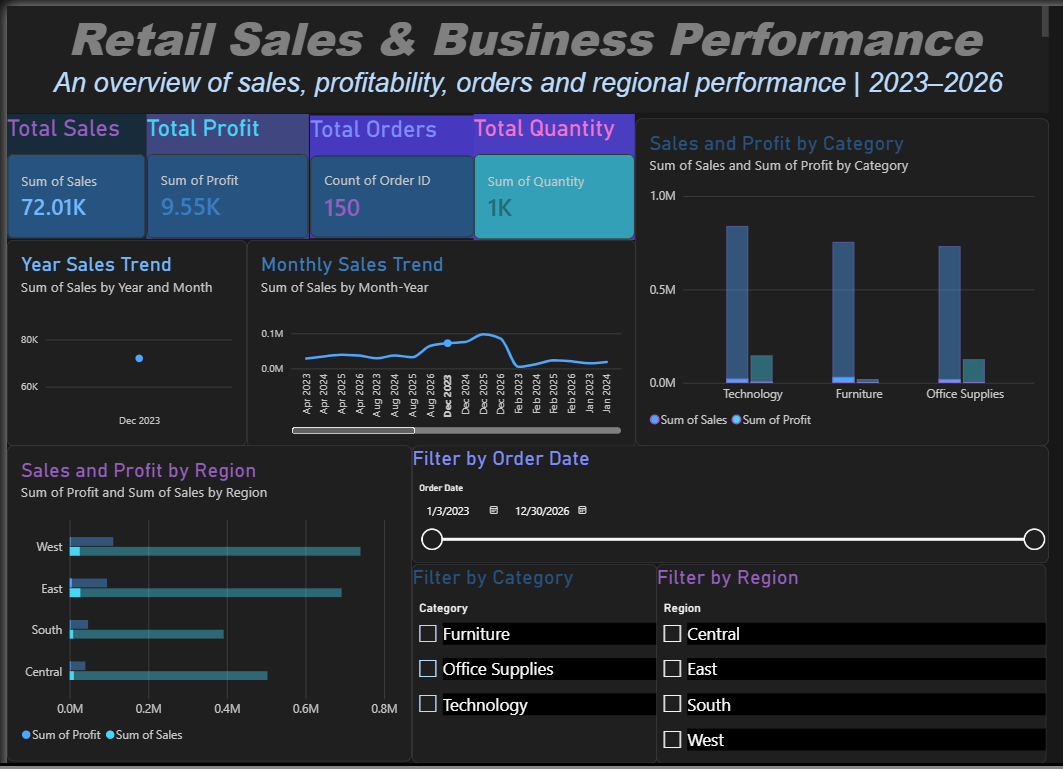

The dashboard page shown, as its layout file describes it:
{"tool":"powerbi","page":{"name":"Page 1","canvas":[1920,1080],"ordinal":0},"visuals":[{"type":"cardVisual","title":"Total Sales","fields":{"Data":["Sum(superstore_cleaned.Sales)"]},"box":[0,128,166,148.9],"z":0},{"type":"cardVisual","title":"Total Profit","fields":{"Data":["Sum(superstore_cleaned.Profit)"]},"box":[166,128,193.6,148.9],"z":1000},{"type":"cardVisual","title":"Total Orders","fields":{"Data":["Count(superstore_cleaned.Order ID)"]},"box":[360,130,196,146],"z":2000},{"type":"cardVisual","title":"Total Quantity","fields":{"Data":["Sum(superstore_cleaned.Quantity)"]},"box":[556,128,192,150],"z":3000},{"type":"lineChart","title":"Year Sales Trend","fields":{"Category":["superstore_cleaned.Order Date.Variation.Date Hierarchy.Year","superstore_cleaned.Order Date.Variation.Date Hierarchy.Month"],"Y":["Sum(superstore_cleaned.Sales)"]},"box":[0,278,285.5,245.2],"z":4000},{"type":"lineChart","title":"Monthly Sales Trend","fields":{"Category":["superstore_cleaned.Month-Year"],"Y":["Sum(superstore_cleaned.Sales)"]},"box":[286,276,462,248],"z":5000},{"type":"clusteredColumnChart","title":"Sales and Profit by Category","fields":{"Category":["superstore_cleaned.Category"],"Y":["Sum(superstore_cleaned.Sales)","Sum(superstore_cleaned.Profit)"]},"box":[748,134,492,390],"z":6000},{"type":"clusteredBarChart","title":"Sales and Profit by Region","fields":{"Category":["superstore_cleaned.Region"],"Y":["Sum(superstore_cleaned.Profit)","Sum(superstore_cleaned.Sales)"]},"box":[0,524,482.3,375.8],"z":7000},{"type":"slicer","title":"Filter by Order Date","fields":{"Values":["superstore_cleaned.Order Date"]},"box":[482,524,758,140],"z":8000},{"type":"slicer","title":"Filter by Category","fields":{"Values":["superstore_cleaned.Category"]},"box":[482,664,291.9,237.1],"z":9000},{"type":"slicer","title":"Filter by Region","fields":{"Values":["superstore_cleaned.Region"]},"box":[774,664,464,238],"z":10000},{"type":"textbox","box":[0,0,1240,74],"z":10001},{"type":"textbox","box":[0,74,1240,54],"z":10002}]}

Visuals, with their boxes on the page's 1920x1080 design canvas (x1, y1, x2, y2). These are canvas units, not pixel positions in the 1063x769 screenshot, which may show the page scaled, cropped or inside an application window:
"Total Sales" cardVisual: x1=0 y1=128 x2=166 y2=277
"Total Profit" cardVisual: x1=166 y1=128 x2=360 y2=277
"Total Orders" cardVisual: x1=360 y1=130 x2=556 y2=276
"Total Quantity" cardVisual: x1=556 y1=128 x2=748 y2=278
"Year Sales Trend" lineChart: x1=0 y1=278 x2=286 y2=523
"Monthly Sales Trend" lineChart: x1=286 y1=276 x2=748 y2=524
"Sales and Profit by Category" clusteredColumnChart: x1=748 y1=134 x2=1240 y2=524
"Sales and Profit by Region" clusteredBarChart: x1=0 y1=524 x2=482 y2=900
"Filter by Order Date" slicer: x1=482 y1=524 x2=1240 y2=664
"Filter by Category" slicer: x1=482 y1=664 x2=774 y2=901
"Filter by Region" slicer: x1=774 y1=664 x2=1238 y2=902
textbox: x1=0 y1=0 x2=1240 y2=74
textbox: x1=0 y1=74 x2=1240 y2=128
